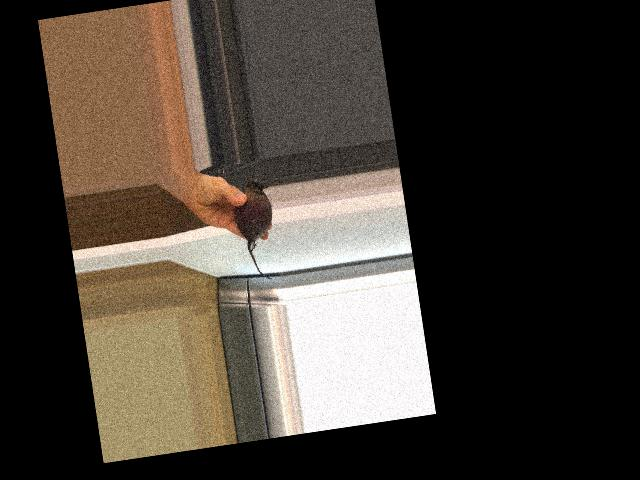beet: (229, 174, 282, 283)
